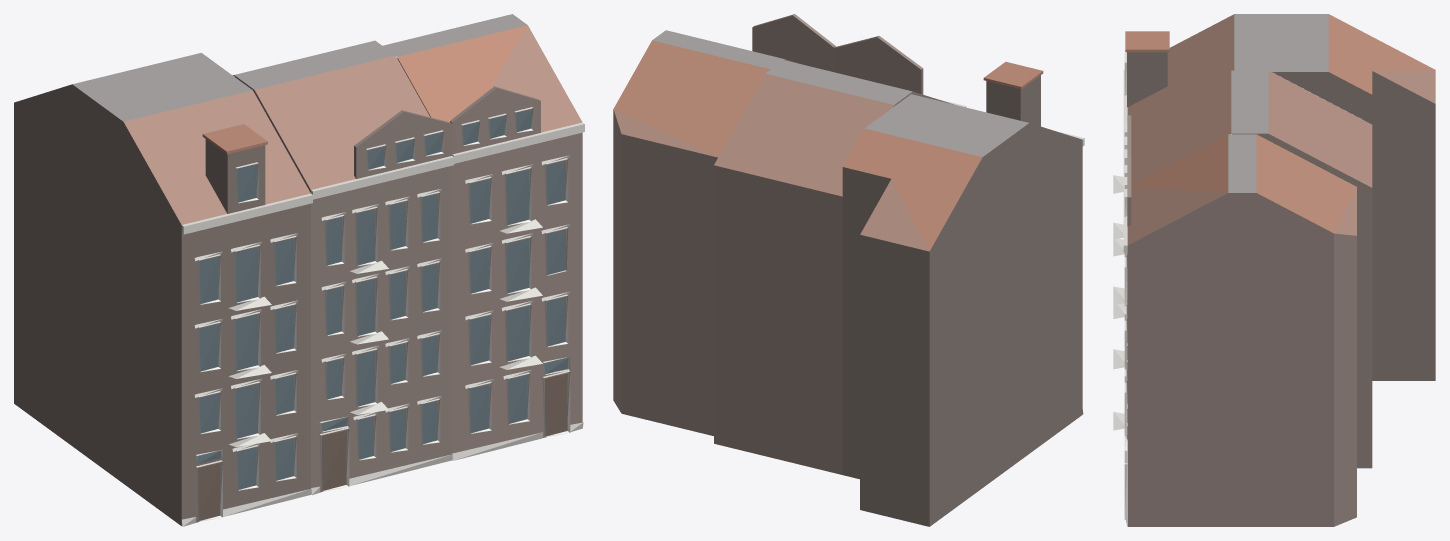
File: chunk-face-retief-45-75-r1.lod2.glb
3 views of the same model, side by side, from view 1: azimuth 30°, elevation 25°; view 2: azimuth 150°, elevation 25°; view 3: azimuth 270°, elevation 25° (orthographic). The views are drawn at different scales.
Visible parts, largest first — view 1: lod2; view 2: lod2; view 3: lod2.
Boxes of the visible parts, left/top/right/bottom form: lod2: left=14, top=14, right=584, bottom=526; lod2: left=613, top=14, right=1084, bottom=526; lod2: left=1113, top=14, right=1435, bottom=526.
Size of the model in its own units: 18.46 by 16.04 by 13.96.
